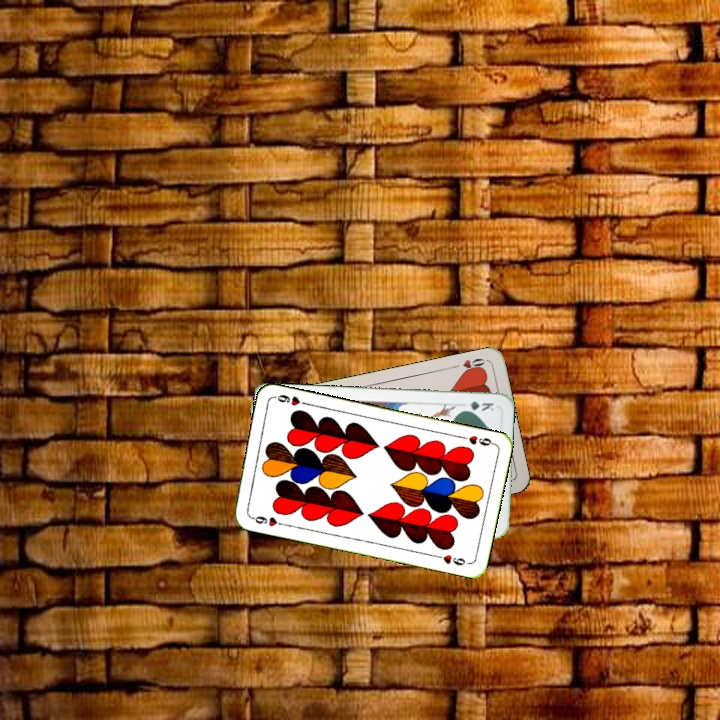GK: (457, 397, 497, 414)
H9: (456, 431, 497, 448), (246, 512, 287, 529)
HO: (448, 354, 488, 376)
